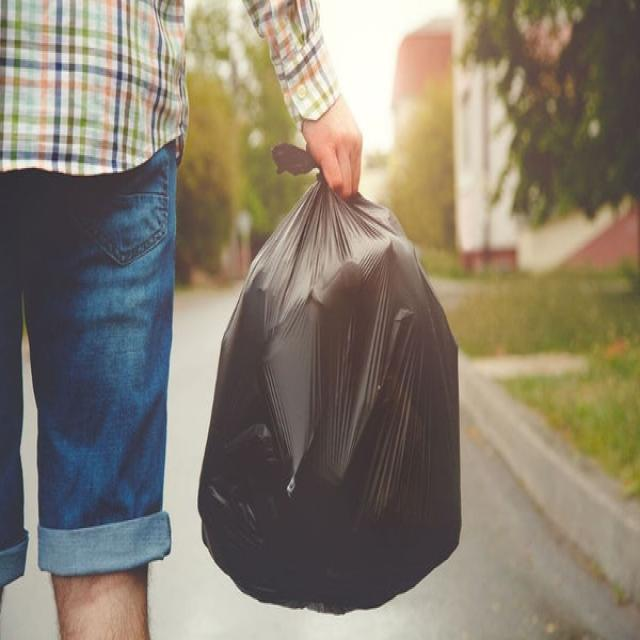sampah-detection: (196, 132, 468, 614)
